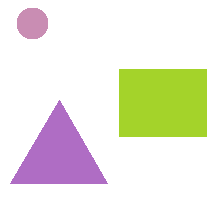circle: (17, 8, 47, 38)
rectangle: (119, 69, 206, 136)
triangle: (10, 100, 107, 183)
